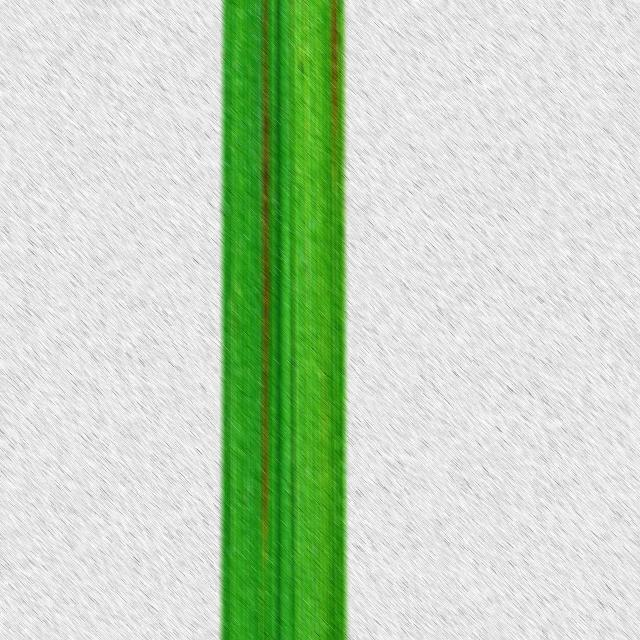NBS: (262, 0, 269, 560), (330, 0, 338, 181)
